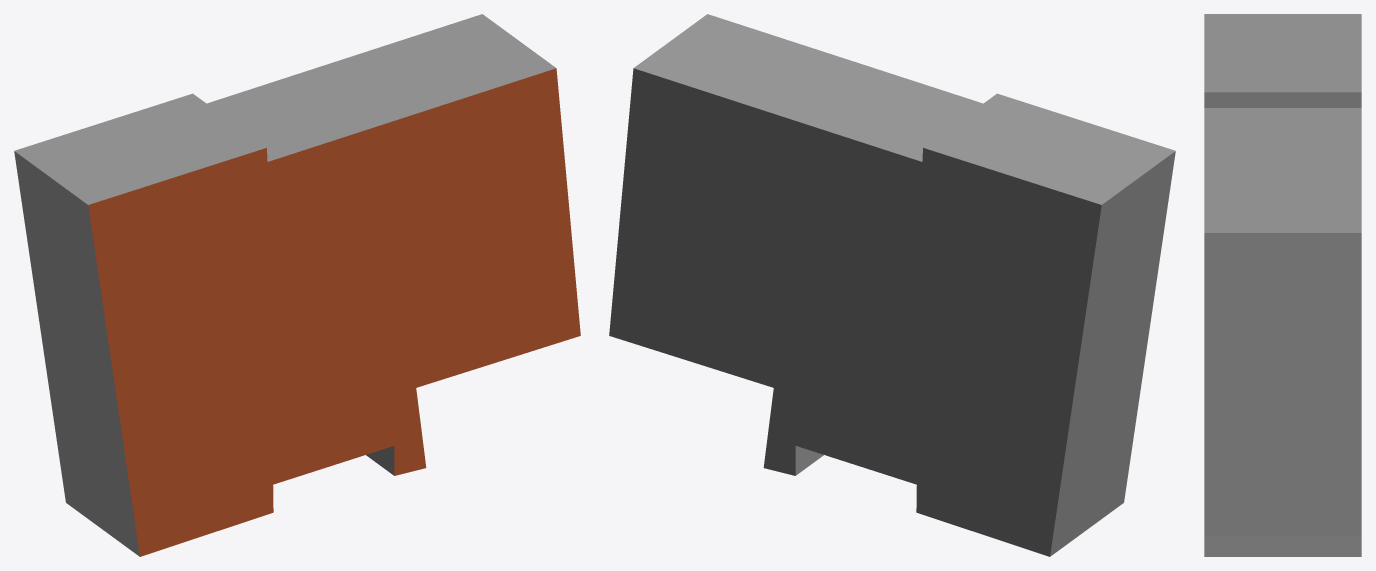
File: construction_4648_assumed_A_Casa_h6m.obj
The picture shows the model from 3 angles, left to right: view 1: azimuth 30°, elevation 25°; view 2: azimuth 150°, elevation 25°; view 3: azimuth 270°, elevation 25°; orthographic projection. The views are drawn at different scales.
Visible parts, largest first — view 1: construction_4648_assumed_A_Casa; view 2: construction_4648_assumed_A_Casa; view 3: construction_4648_assumed_A_Casa.
Boxes of the visible parts, <box> form: construction_4648_assumed_A_Casa: <box>14,14,580,556</box>; construction_4648_assumed_A_Casa: <box>609,14,1175,556</box>; construction_4648_assumed_A_Casa: <box>1204,14,1361,556</box>.
Bounding box in the file's own units: 23.04 × 17.3 × 6.
